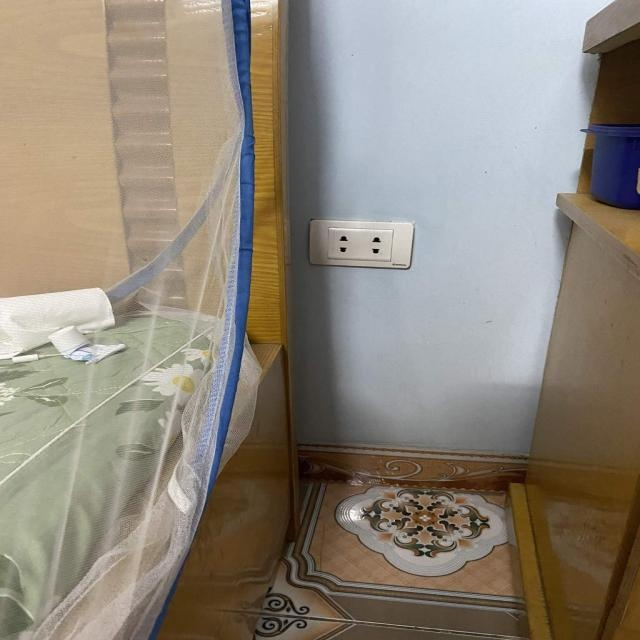outlet: (307, 219, 413, 269)
